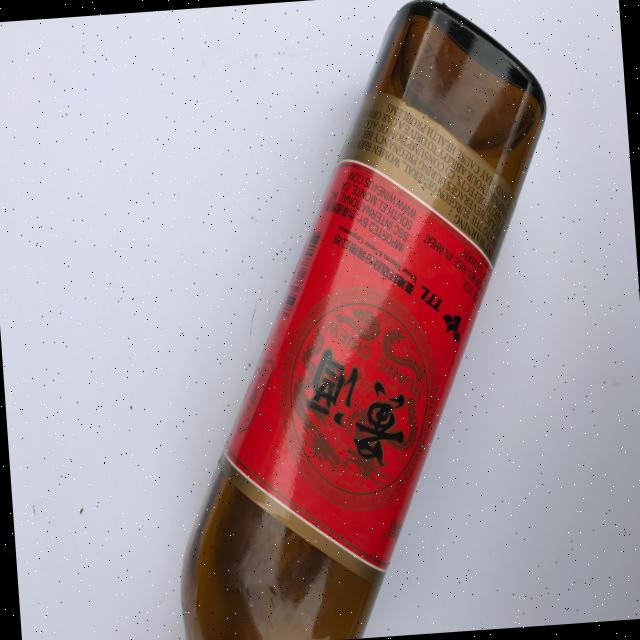glass: (138, 0, 582, 640)
